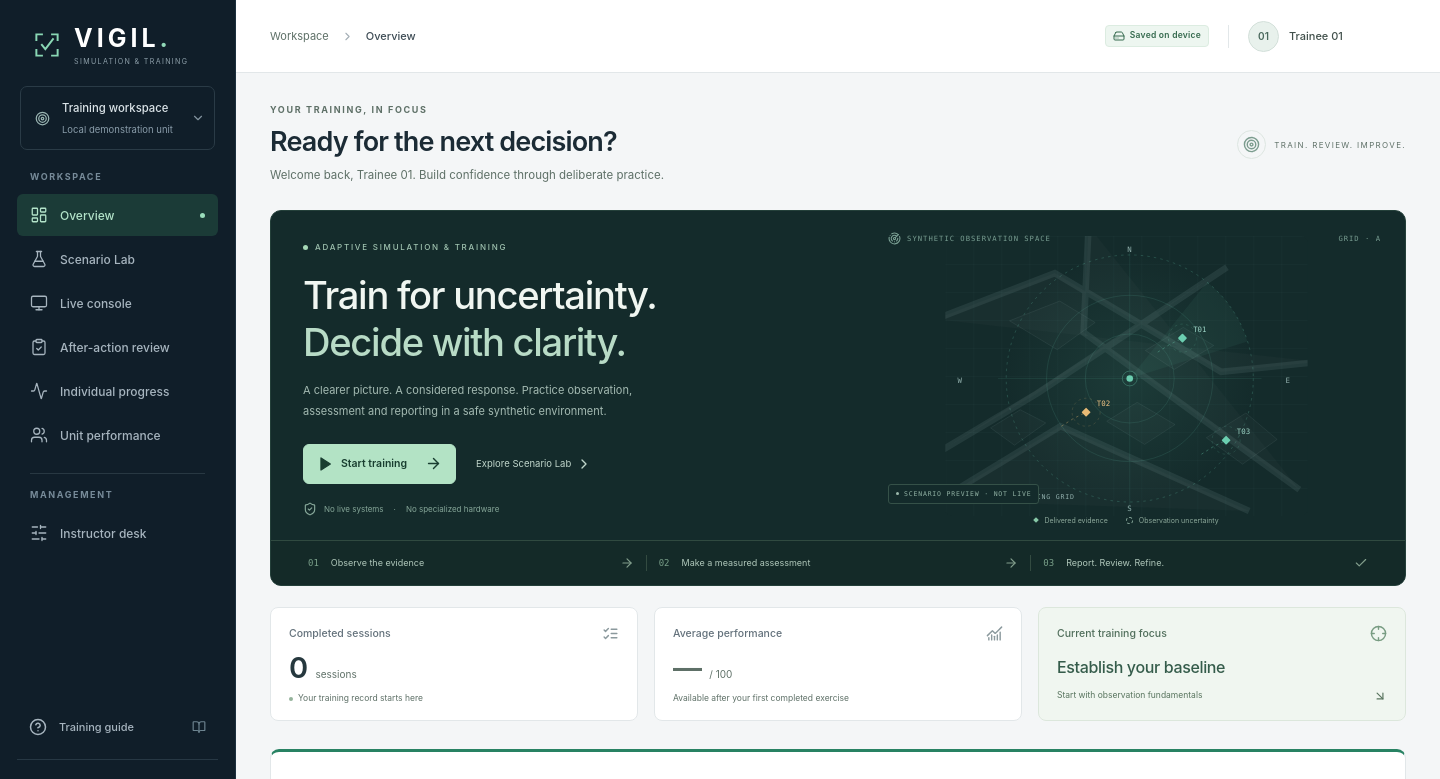
Test: Phase 1 navigation and foundation › navigates to Individual progress and marks the active navigation item
Click the button "Individual progress" at x=118, y=391, box [17,370,218,412]
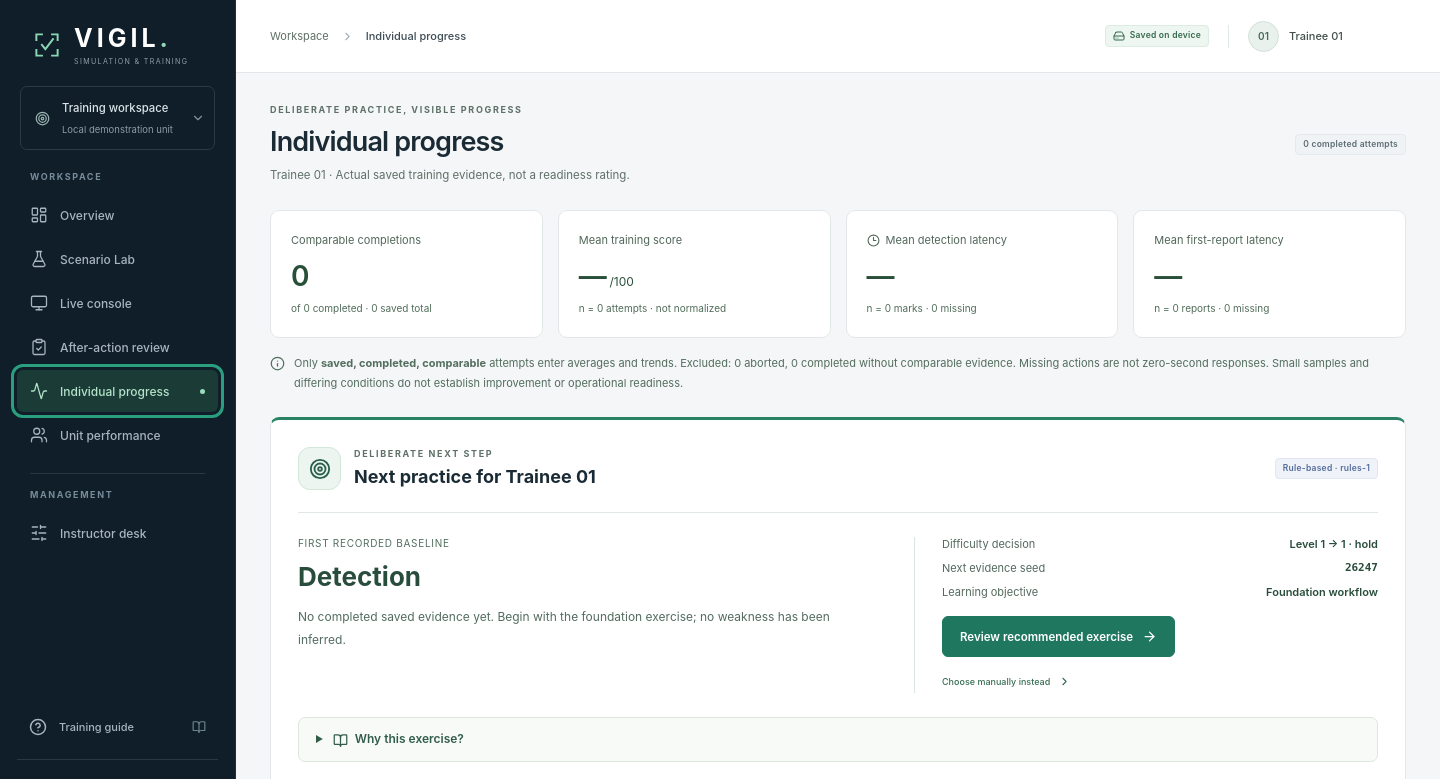
Expected: the heading "Individual progress" is shown, [270,125,504,158]
